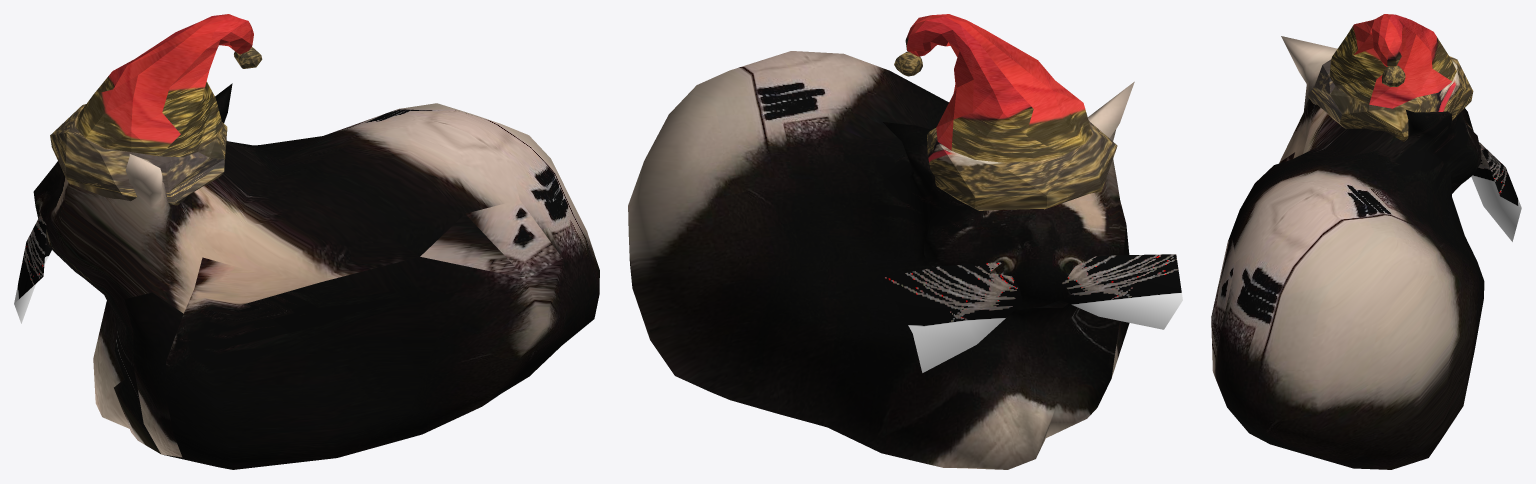
Rendered from xmas_maxwell.obj.
3 views of the same model, side by side, from view 1: azimuth 30°, elevation 25°; view 2: azimuth 150°, elevation 25°; view 3: azimuth 270°, elevation 25° (orthographic). The views are drawn at different scales.
Visible parts, largest first — view 1: dingus_dingus_0_dingus_dingus_0.001, xmashat, dingus_whiskers_0_dingus_whiskers_0.001; view 2: dingus_dingus_0_dingus_dingus_0.001, xmashat, dingus_whiskers_0_dingus_whiskers_0.001; view 3: dingus_dingus_0_dingus_dingus_0.001, xmashat, dingus_whiskers_0_dingus_whiskers_0.001.
Boxes of the visible parts, x1=… form: dingus_dingus_0_dingus_dingus_0.001: x1=33, y1=83, x2=599, y2=469; xmashat: x1=50, y1=14, x2=262, y2=205; dingus_whiskers_0_dingus_whiskers_0.001: x1=14, y1=215, x2=51, y2=323; dingus_dingus_0_dingus_dingus_0.001: x1=628, y1=51, x2=1134, y2=469; xmashat: x1=894, y1=14, x2=1117, y2=210; dingus_whiskers_0_dingus_whiskers_0.001: x1=882, y1=254, x2=1182, y2=372; dingus_dingus_0_dingus_dingus_0.001: x1=1211, y1=36, x2=1484, y2=469; xmashat: x1=1308, y1=14, x2=1473, y2=141; dingus_whiskers_0_dingus_whiskers_0.001: x1=1471, y1=142, x2=1521, y2=241.
Bounding box in the file's own units: 1.93 × 1.38 × 1.09.
